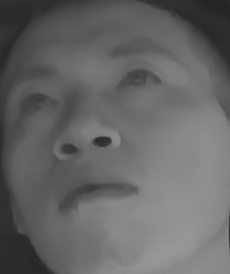eye: (111, 64, 167, 96), (14, 87, 60, 118)
mouth: (50, 173, 142, 220)
